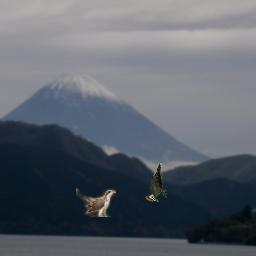Cuckoo: (76, 188, 116, 217)
Woodpecker: (145, 163, 167, 202)
